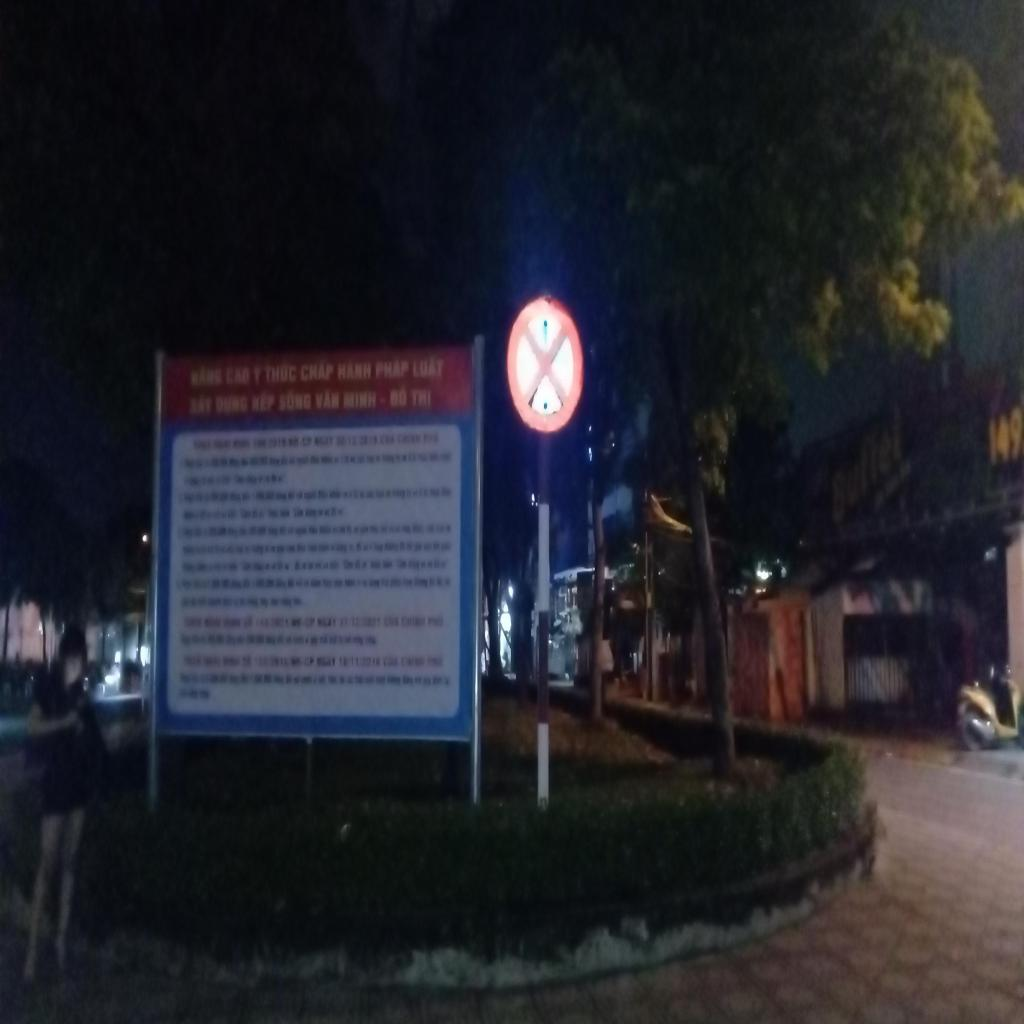cam_dung_xe_va_do_xe: (504, 297, 584, 437)
